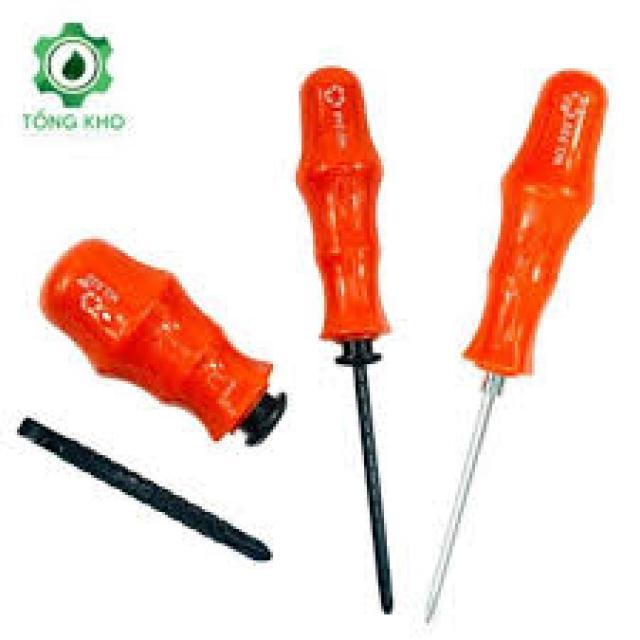screwdriver: (420, 66, 614, 632), (292, 59, 394, 620)
